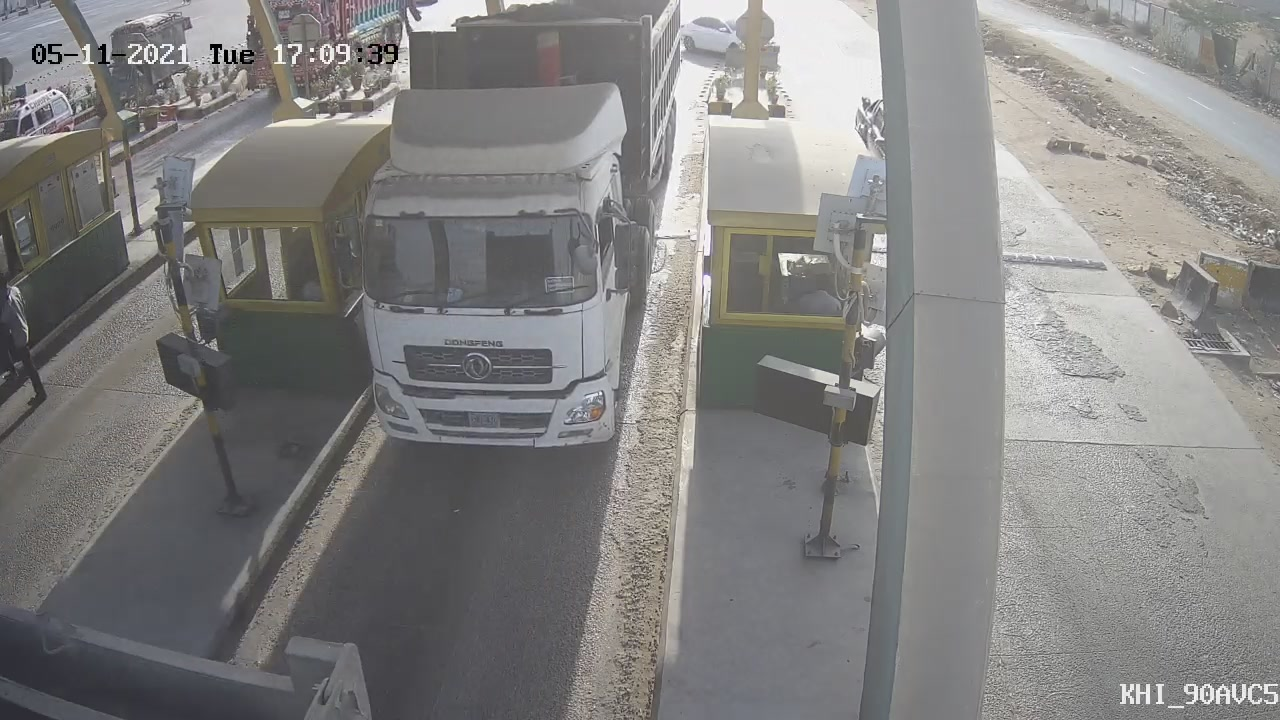F6: (314, 1, 699, 470)
